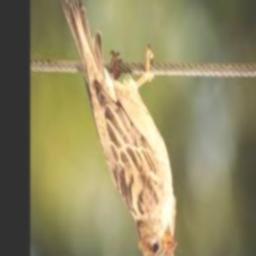Sparrow: (62, 0, 177, 256)
